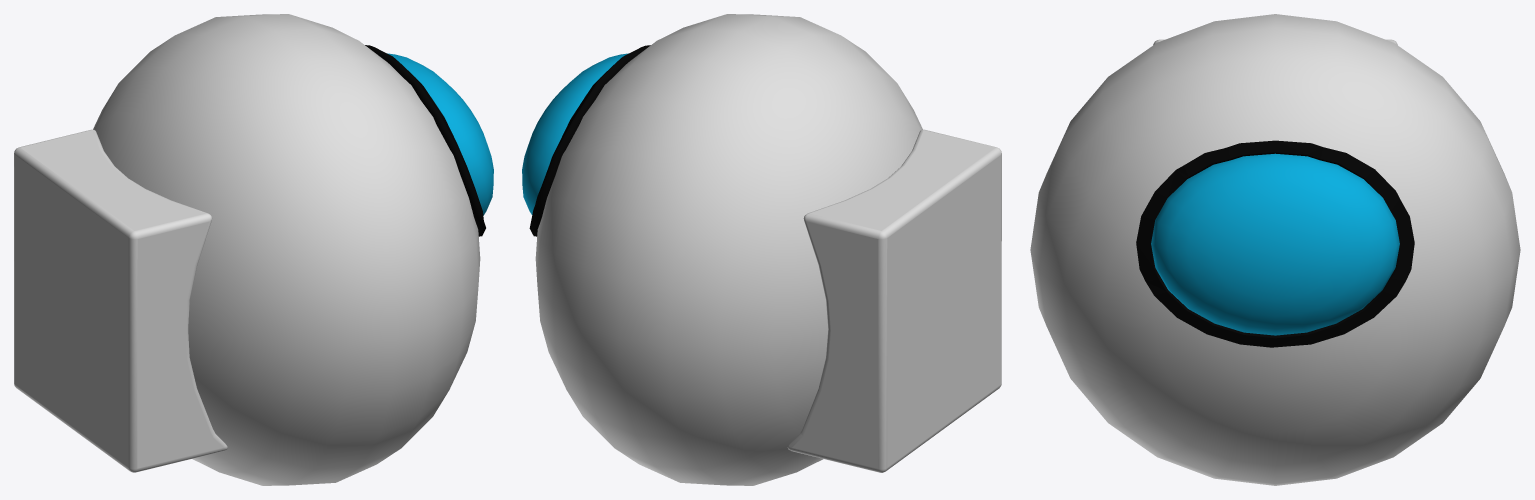
3 views of the same model, side by side, from view 1: azimuth 30°, elevation 25°; view 2: azimuth 150°, elevation 25°; view 3: azimuth 270°, elevation 25° (orthographic).
Visible parts, largest first — view 1: Head; view 2: Head; view 3: Head.
Boxes of the visible parts, x1,y1,x2,y2 form: Head: (14, 14, 493, 485); Head: (522, 14, 1001, 485); Head: (1030, 14, 1520, 485).
Size of the model in its own units: 1.42 by 1.5 by 1.5.
